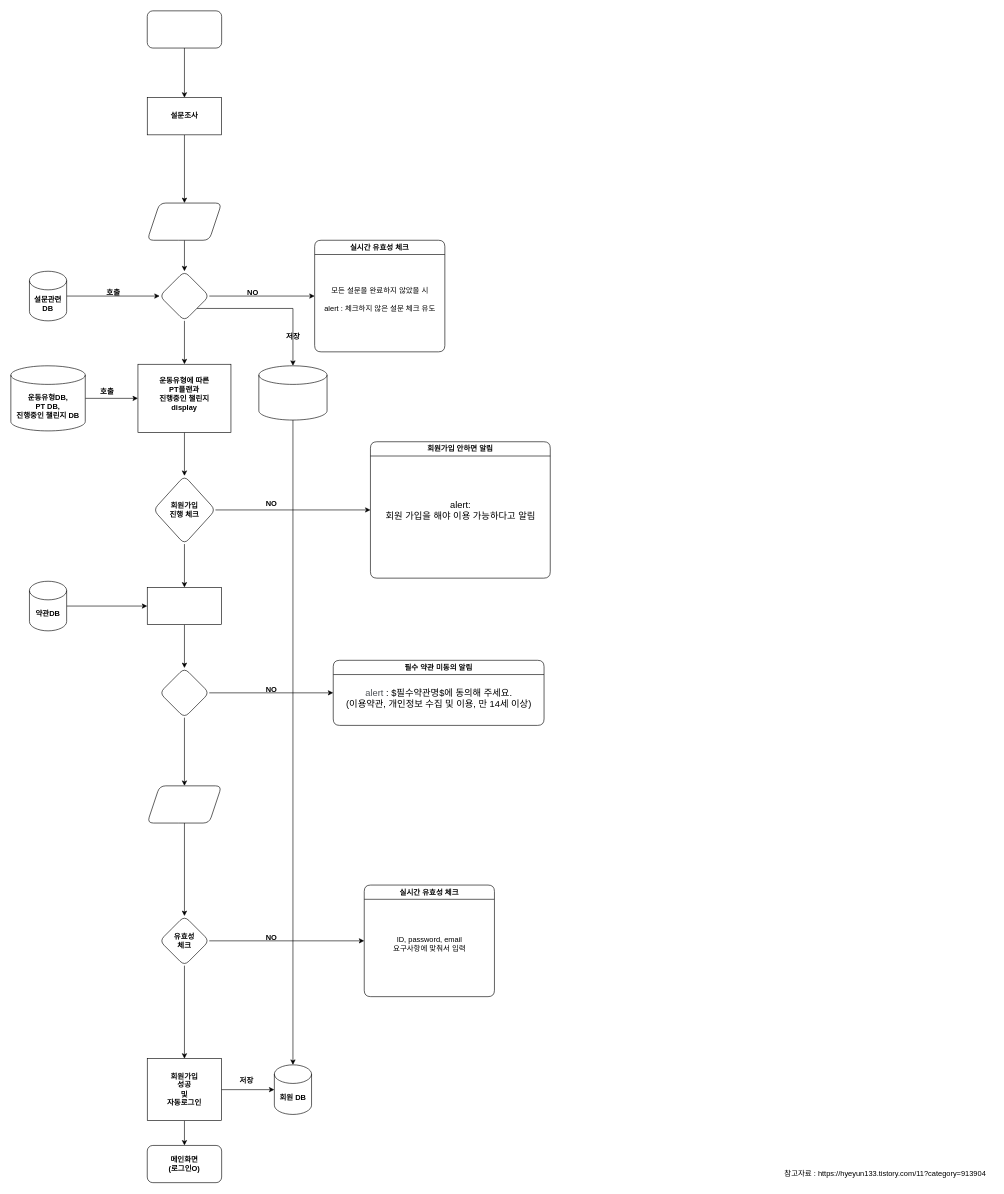
Image size: 1004x1194. Some labels were removed from this diagram. The centre of each missing label's shape, as x and y in pixels:
"메인화면 (로그인X)" belongs at point 184,29.
"비회원 DB" belongs at point 292,392.
"설문조사 체크" belongs at point 184,296.
"설문지 입력" belongs at point 184,221.
"약관동의" belongs at point 184,606.
"약관동의 체크" belongs at point 184,692.
"회원정보 입력" belongs at point 184,804.
